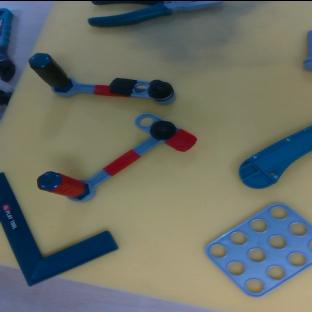non_pass: (22, 50, 177, 120)
pass: (29, 96, 199, 217)
